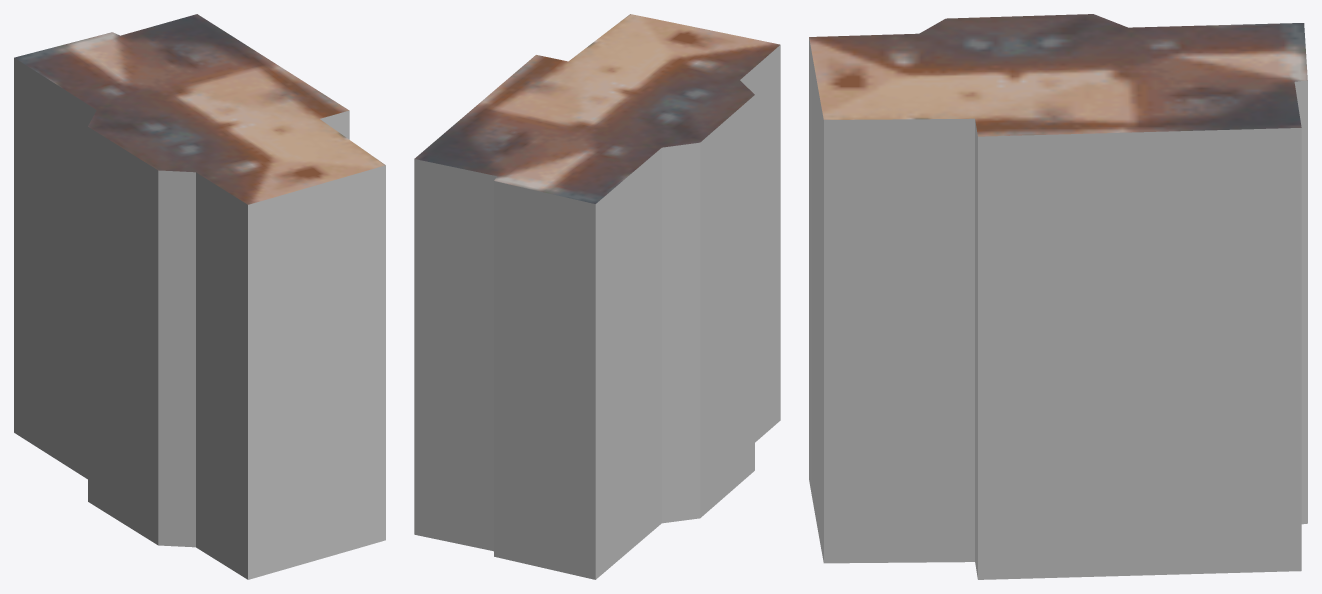
The model's file is DEBW_0010007Tx8u.gltf.
The picture shows the model from 3 angles, left to right: view 1: azimuth 30°, elevation 25°; view 2: azimuth 150°, elevation 25°; view 3: azimuth 270°, elevation 25°; orthographic projection. The views are drawn at different scales.
Parts seen in each view (by area): view 1: Z_UP; view 2: Z_UP; view 3: Z_UP.
Part boxes in pixels (box(x1,y1,x2,y2)): Z_UP: box(14, 14, 385, 579); Z_UP: box(414, 14, 780, 579); Z_UP: box(809, 14, 1307, 579).
Bounding box in the file's own units: 10.27 × 17.3 × 17.64.
Materials: 2 (1 with a texture image).
